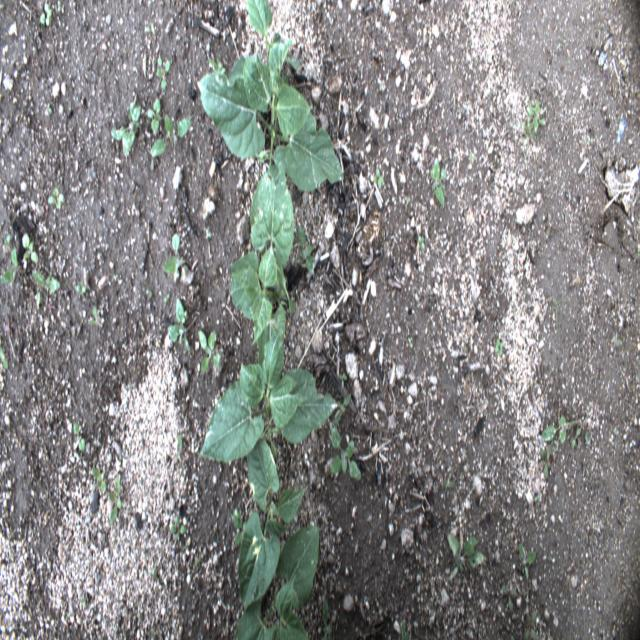crop: (195, 0, 344, 194), (198, 330, 342, 462), (230, 162, 296, 379), (238, 423, 306, 616), (234, 522, 320, 638)
weed: (110, 94, 141, 157), (150, 110, 192, 155), (330, 421, 362, 479), (448, 532, 484, 569), (540, 414, 581, 446), (162, 229, 186, 281), (294, 224, 316, 274), (171, 297, 191, 350), (522, 98, 546, 142), (198, 329, 220, 374), (0, 247, 24, 285), (107, 473, 124, 526), (429, 158, 445, 208), (518, 540, 537, 582), (232, 509, 253, 545), (29, 268, 61, 290), (540, 441, 554, 483), (156, 54, 170, 94), (146, 100, 162, 134), (322, 596, 334, 640), (23, 230, 38, 265), (47, 185, 67, 211), (72, 418, 86, 453), (501, 583, 517, 613), (523, 608, 538, 638), (209, 55, 226, 81), (334, 393, 350, 420), (170, 517, 187, 542), (92, 465, 106, 494), (372, 165, 385, 192), (40, 2, 53, 28), (73, 278, 89, 297), (493, 335, 504, 358), (0, 342, 9, 370), (90, 304, 99, 328), (338, 371, 349, 390), (570, 428, 580, 448), (442, 478, 456, 490), (400, 622, 407, 640), (194, 554, 202, 569), (418, 236, 426, 250), (35, 290, 41, 308), (144, 287, 154, 297), (111, 271, 120, 282), (552, 298, 558, 314), (162, 292, 170, 304), (407, 336, 413, 350), (80, 598, 86, 611), (56, 0, 60, 15), (534, 493, 540, 502)
